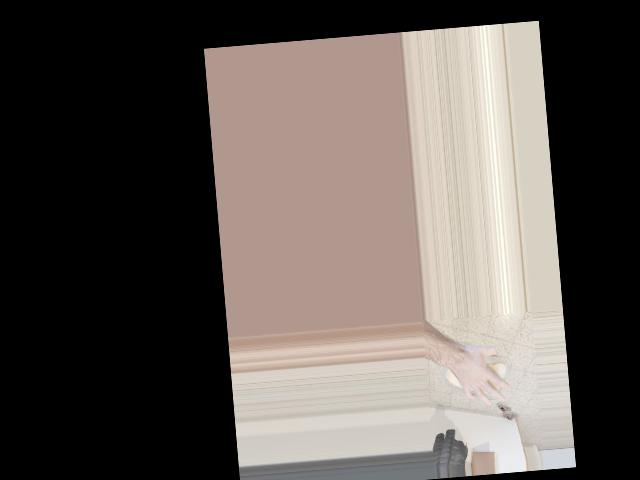cheese: (441, 337, 512, 407)
